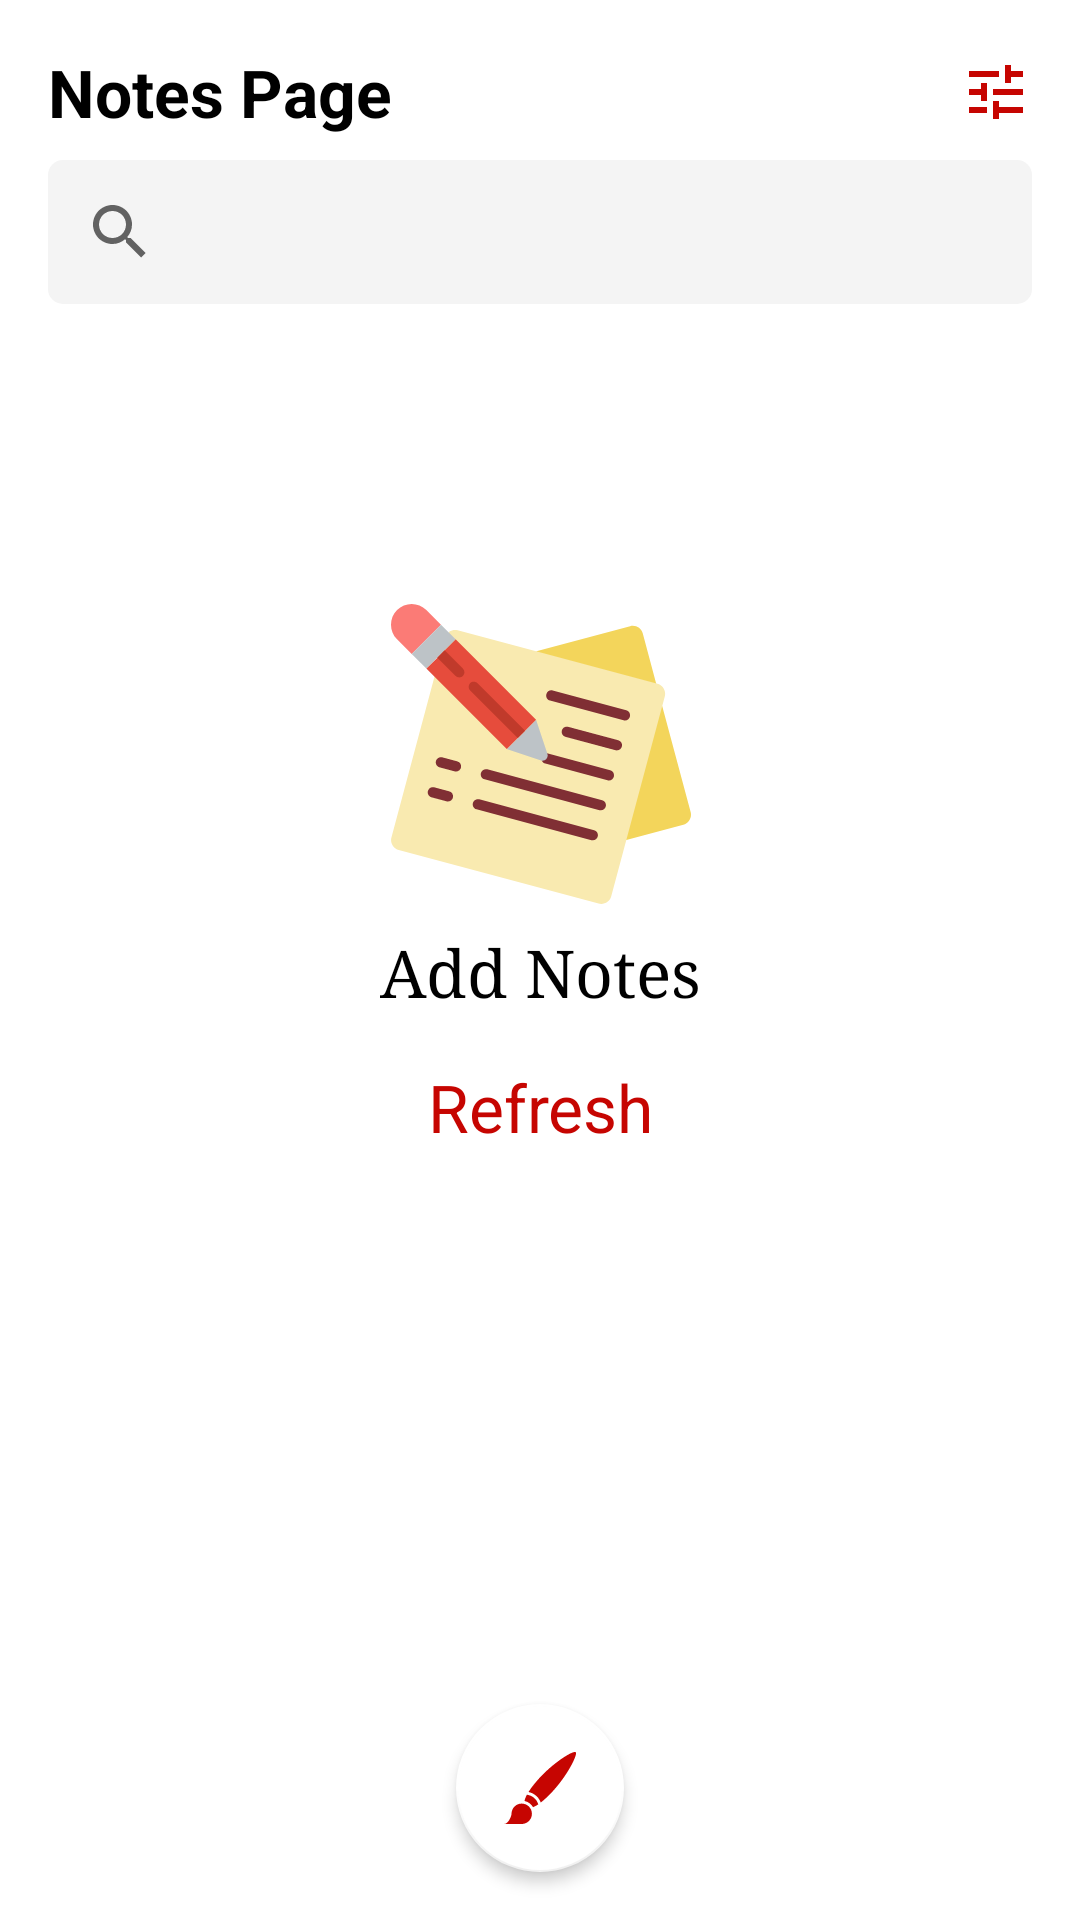

Icon bounding boxes for this 1080px x 1920px phone screenshot, format rect(x1, y1, x2, y2):
filter: rect(969, 65, 1023, 119)
